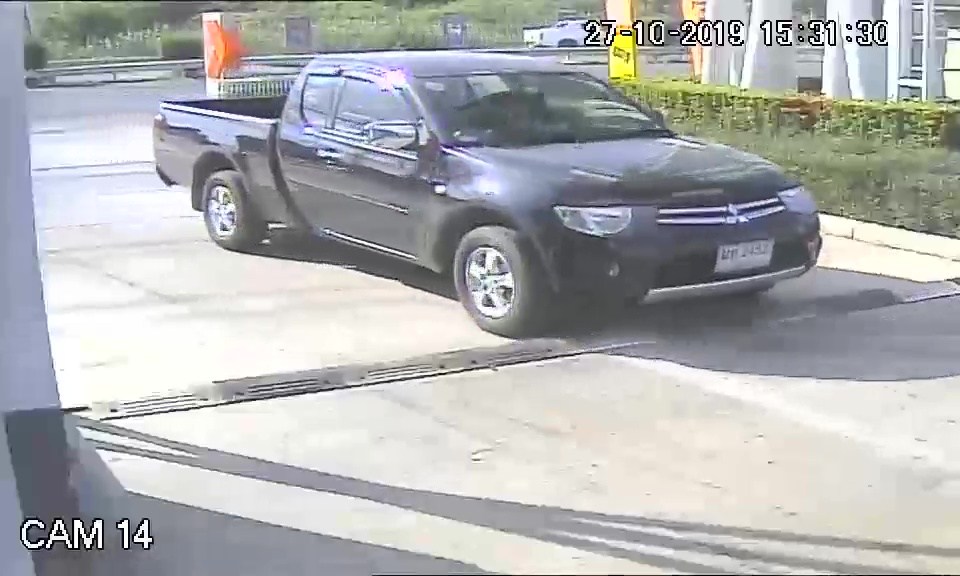pickup: (151, 47, 824, 337)
